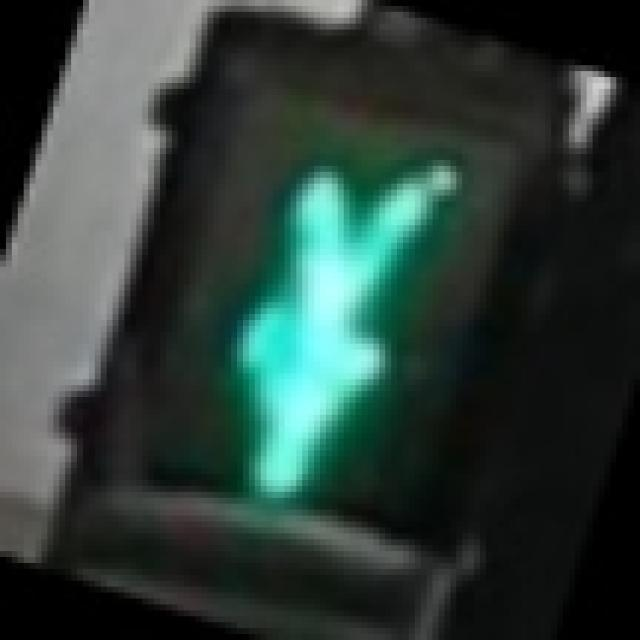geen-crossing: (89, 59, 534, 569)
